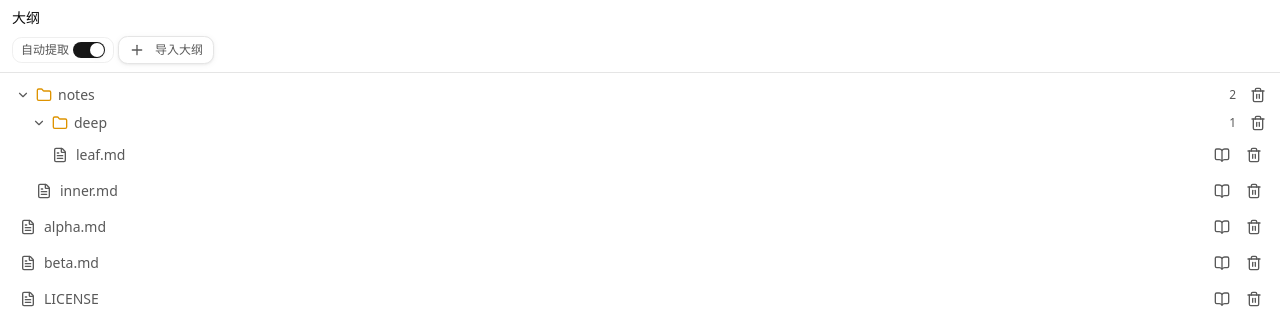
Test: SourceSidebar — 树交互 › 文件夹可折叠/展开（子节点隐藏，再次点击展开）
The image size is (1280, 324).
Expected: the text "notes" is shown, [58,85,95,105]
Click the button "notes 2" at [76, 94], box [12,81,1240,109]
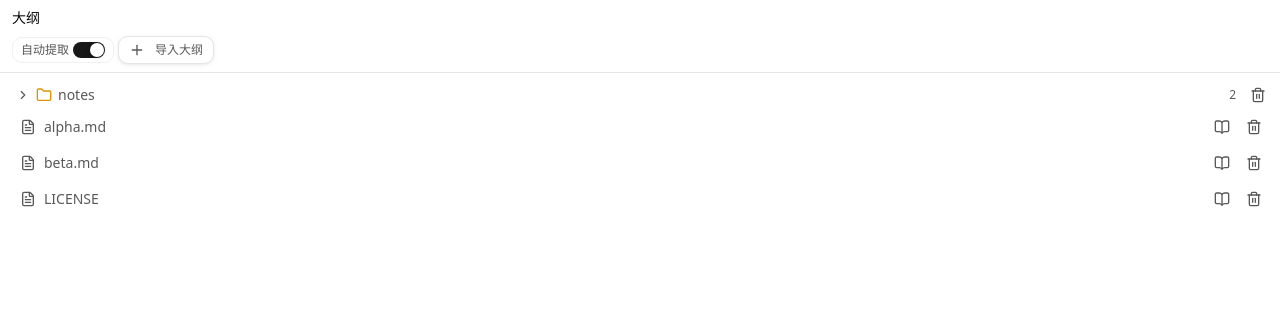
Expected: the button "inner.md" is gone
Expected: the button "deep" is gone
Click the button "notes 2" at [76, 94], box [12,81,1240,109]
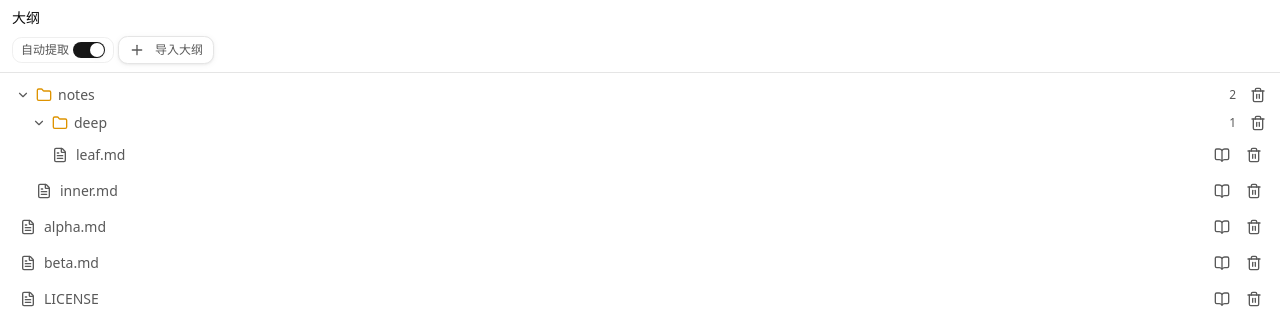
Expected: the text "inner.md" is shown, [60,181,118,201]
Expected: the text "leaf.md" is shown, [76,145,125,165]
